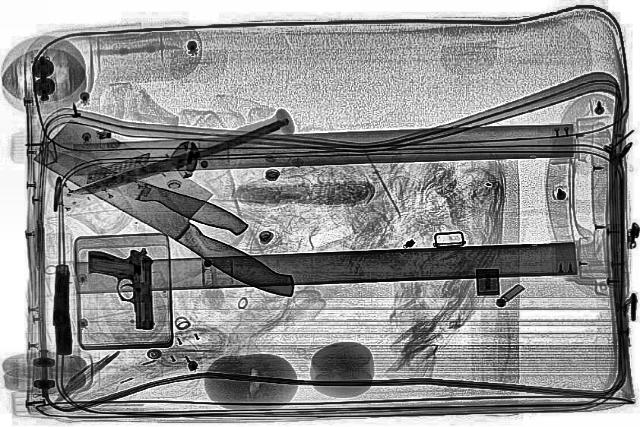Gun: (88, 248, 158, 330), (42, 264, 80, 356)
Knife: (19, 112, 337, 304), (20, 138, 254, 238), (67, 120, 291, 200)
